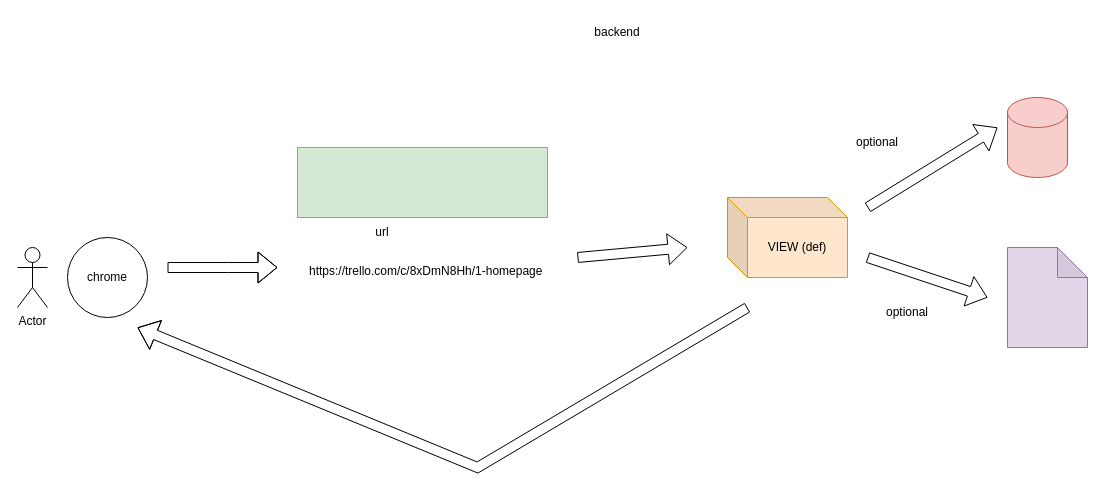
Some shapes in this 1105 by 491 pixel diagram are drawn without their labels. Here are the shapes that lost their labels. From the top down, the centre of each, then its label:
the point at 1037,137: MODEL
the point at 1047,297: TEMPLATE
